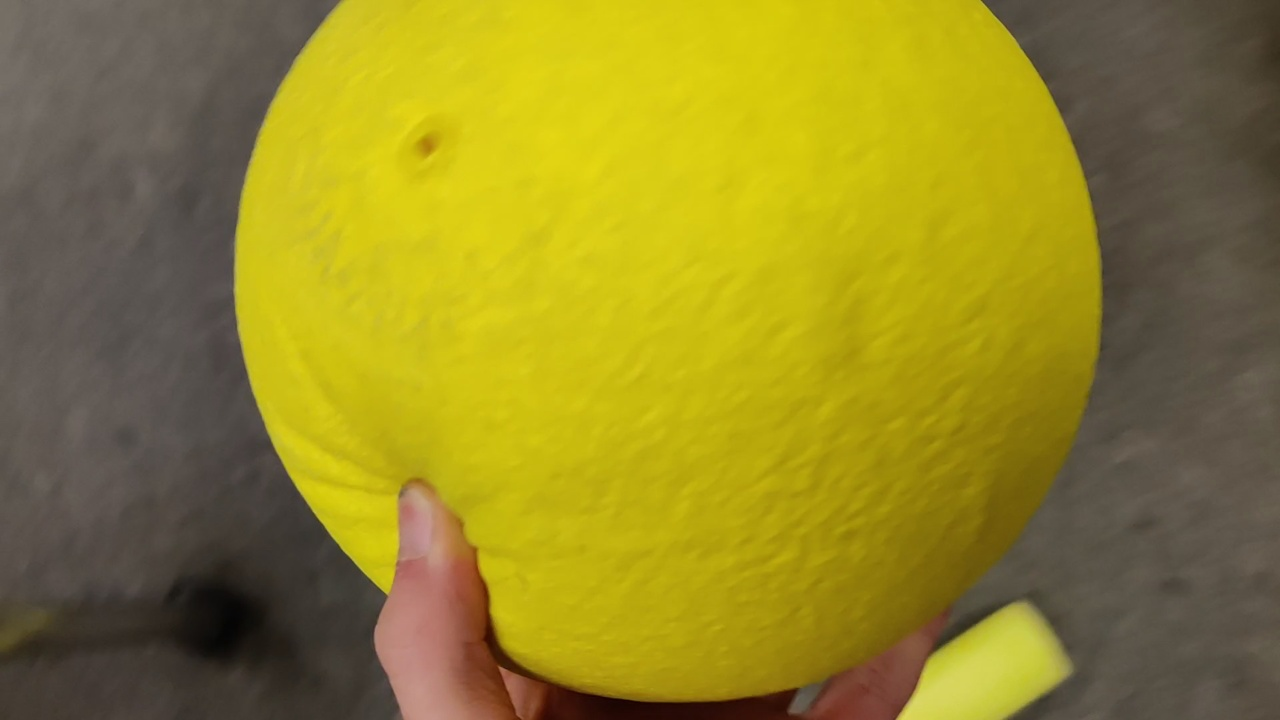Ball: (223, 4, 1104, 702)
